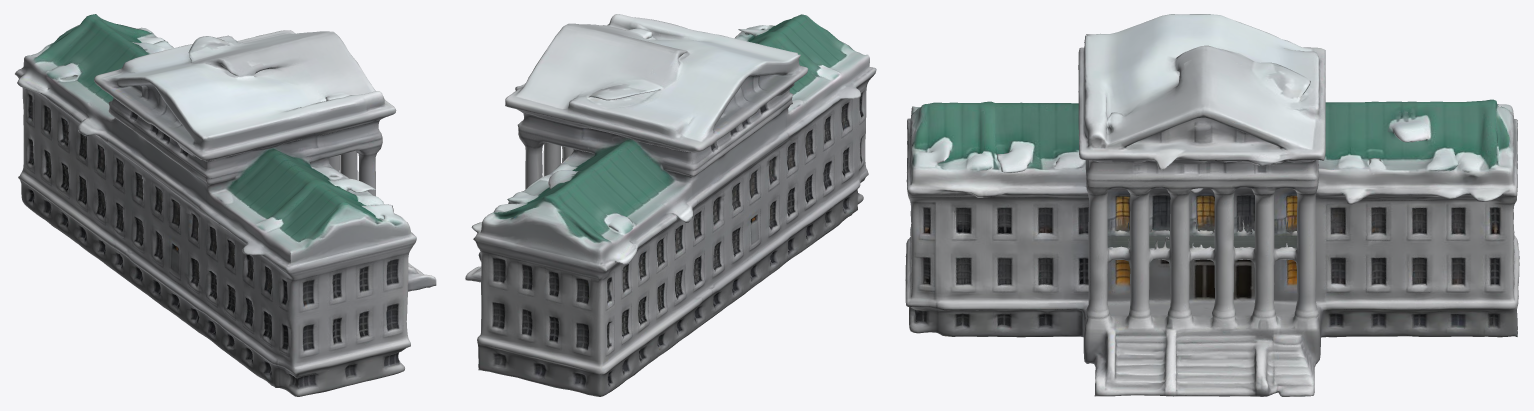
The model's file is tomsk_tsu.glb.
The picture shows the model from 3 angles, left to right: view 1: azimuth 30°, elevation 25°; view 2: azimuth 150°, elevation 25°; view 3: azimuth 270°, elevation 25°; orthographic projection. The views are drawn at different scales.
Parts seen in each view (by area): view 1: tripo_node_2f5e3ff7-63cb-4eb9-a4be-beb1c4cde09e; view 2: tripo_node_2f5e3ff7-63cb-4eb9-a4be-beb1c4cde09e; view 3: tripo_node_2f5e3ff7-63cb-4eb9-a4be-beb1c4cde09e.
Part boxes in pixels (x1,y1,x2,y2): tripo_node_2f5e3ff7-63cb-4eb9-a4be-beb1c4cde09e: (15,14,436,396); tripo_node_2f5e3ff7-63cb-4eb9-a4be-beb1c4cde09e: (465,14,876,396); tripo_node_2f5e3ff7-63cb-4eb9-a4be-beb1c4cde09e: (905,14,1519,396).
Size of the model in its own units: 0.5219 by 0.4628 by 0.9829.
1 material, 1 textured.
